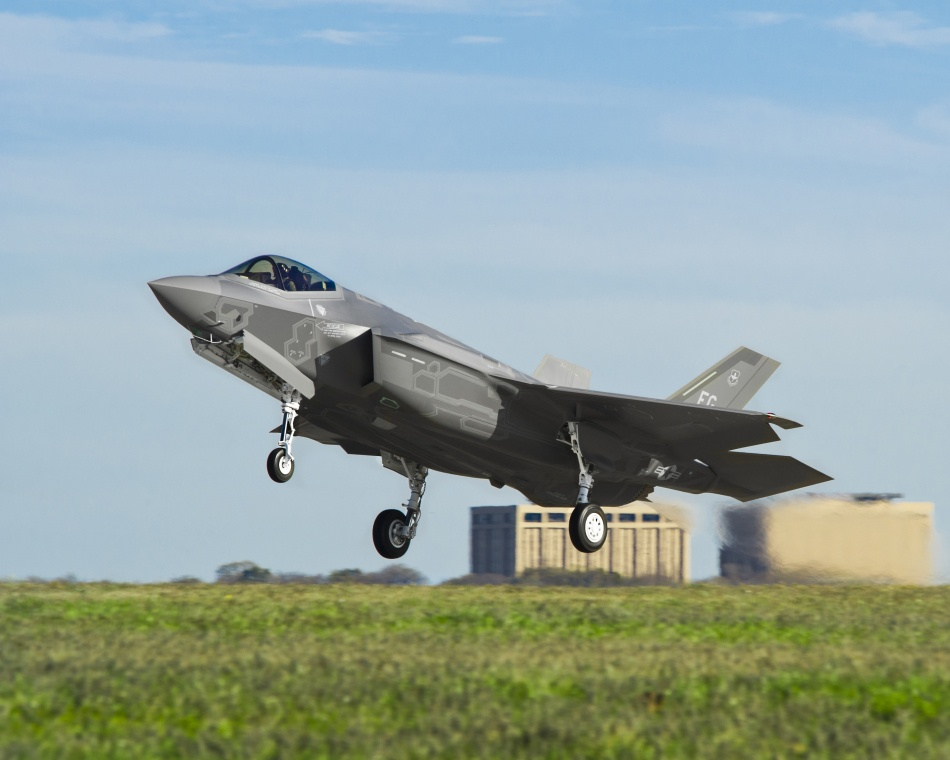airplane: (140, 250, 836, 560)
